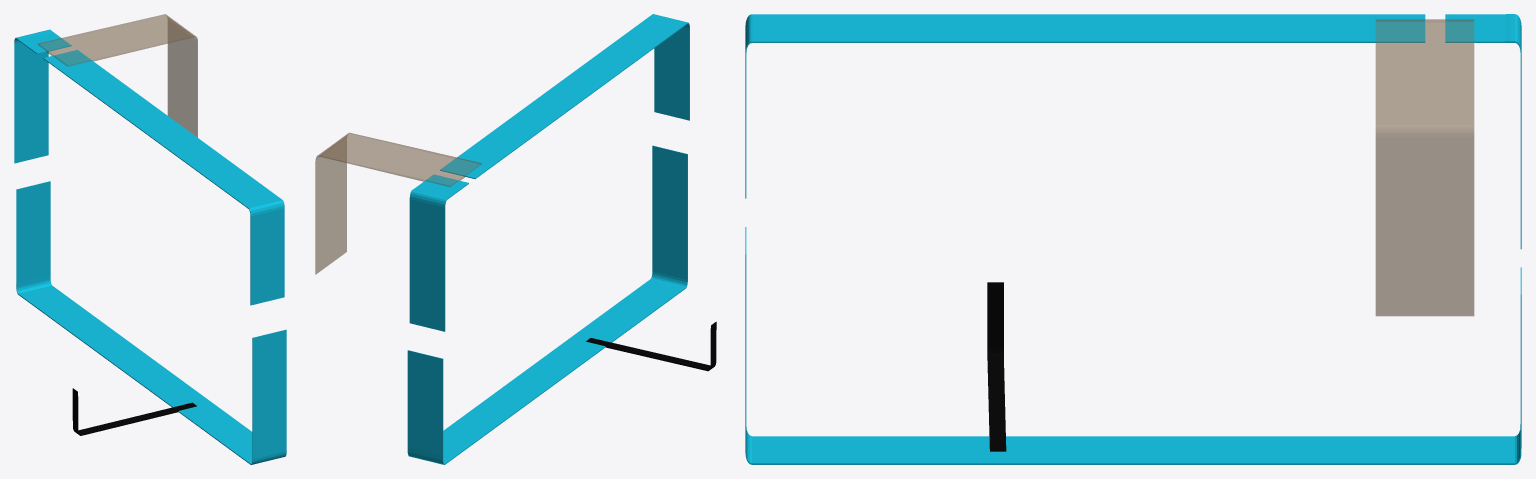
The model's file is tape_open_5.fbx.
The picture shows the model from 3 angles, left to right: view 1: azimuth 30°, elevation 25°; view 2: azimuth 150°, elevation 25°; view 3: azimuth 270°, elevation 25°; orthographic projection. The views are drawn at different scales.
Visible parts, largest first — view 1: tape_0.017, 평면.048, 평면.051; view 2: tape_0.017, 평면.048, 평면.051; view 3: tape_0.017, 평면.048, 평면.051.
Boxes of the visible parts, x1=… form: tape_0.017: x1=14, y1=29, x2=286, y2=464; 평면.048: x1=38, y1=14, x2=197, y2=137; 평면.051: x1=72, y1=388, x2=196, y2=435; tape_0.017: x1=407, y1=14, x2=689, y2=464; 평면.048: x1=315, y1=132, x2=481, y2=274; 평면.051: x1=586, y1=321, x2=716, y2=371; tape_0.017: x1=745, y1=14, x2=1521, y2=464; 평면.048: x1=1375, y1=19, x2=1474, y2=316; 평면.051: x1=987, y1=282, x2=1006, y2=451.
Bounding box in the file's own units: 146 × 151 × 251.
